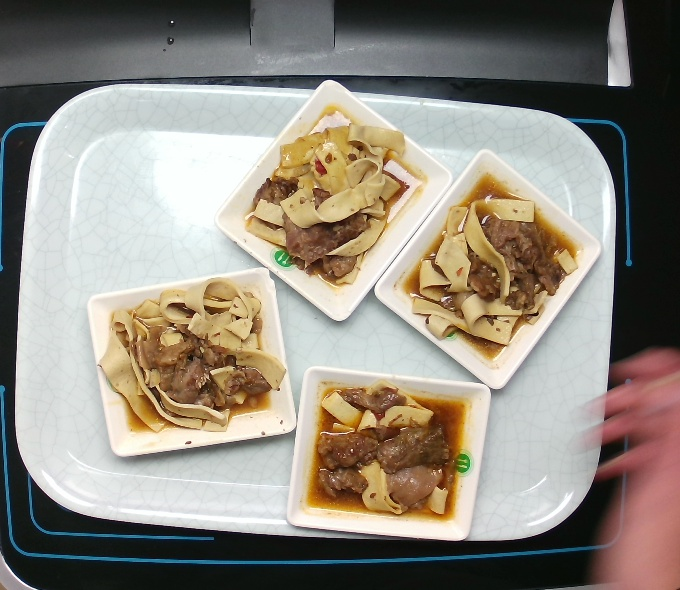wcq-QianZhangNiuNan: (93, 271, 291, 438), (405, 187, 587, 356), (240, 112, 414, 287), (309, 376, 463, 523)
